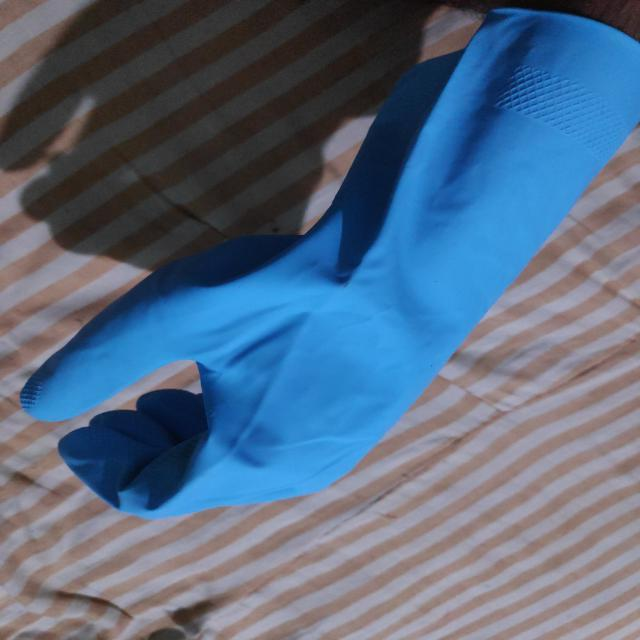gloved_hand: (12, 5, 634, 523)
